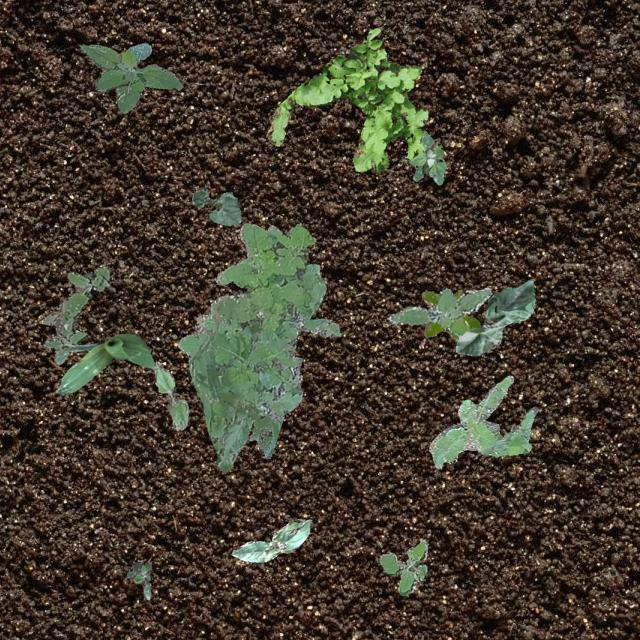crop: (54, 332, 154, 394), (454, 278, 534, 354), (230, 518, 312, 562), (152, 361, 188, 428), (192, 187, 240, 224)
weed: (178, 222, 340, 472), (266, 27, 428, 172), (428, 374, 536, 468), (80, 42, 182, 112), (42, 266, 108, 364), (248, 356, 302, 458), (386, 286, 491, 336), (421, 288, 478, 338), (378, 538, 426, 594), (408, 130, 446, 184), (126, 562, 150, 598)
